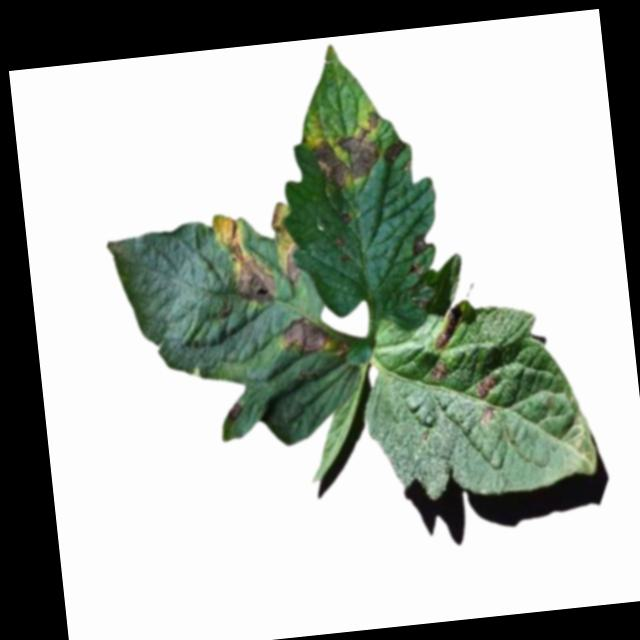Early_blight: (210, 209, 279, 307), (305, 111, 387, 192), (280, 315, 328, 353), (433, 309, 467, 350), (282, 239, 303, 284), (383, 137, 410, 166), (268, 201, 288, 237), (475, 373, 501, 400), (411, 233, 432, 258), (429, 360, 451, 383), (480, 404, 497, 427), (226, 402, 243, 421), (338, 211, 353, 227), (333, 234, 348, 249)
